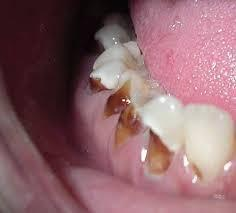Plaque: (145, 126, 173, 177), (115, 103, 142, 146), (104, 79, 131, 116), (88, 76, 110, 97)
